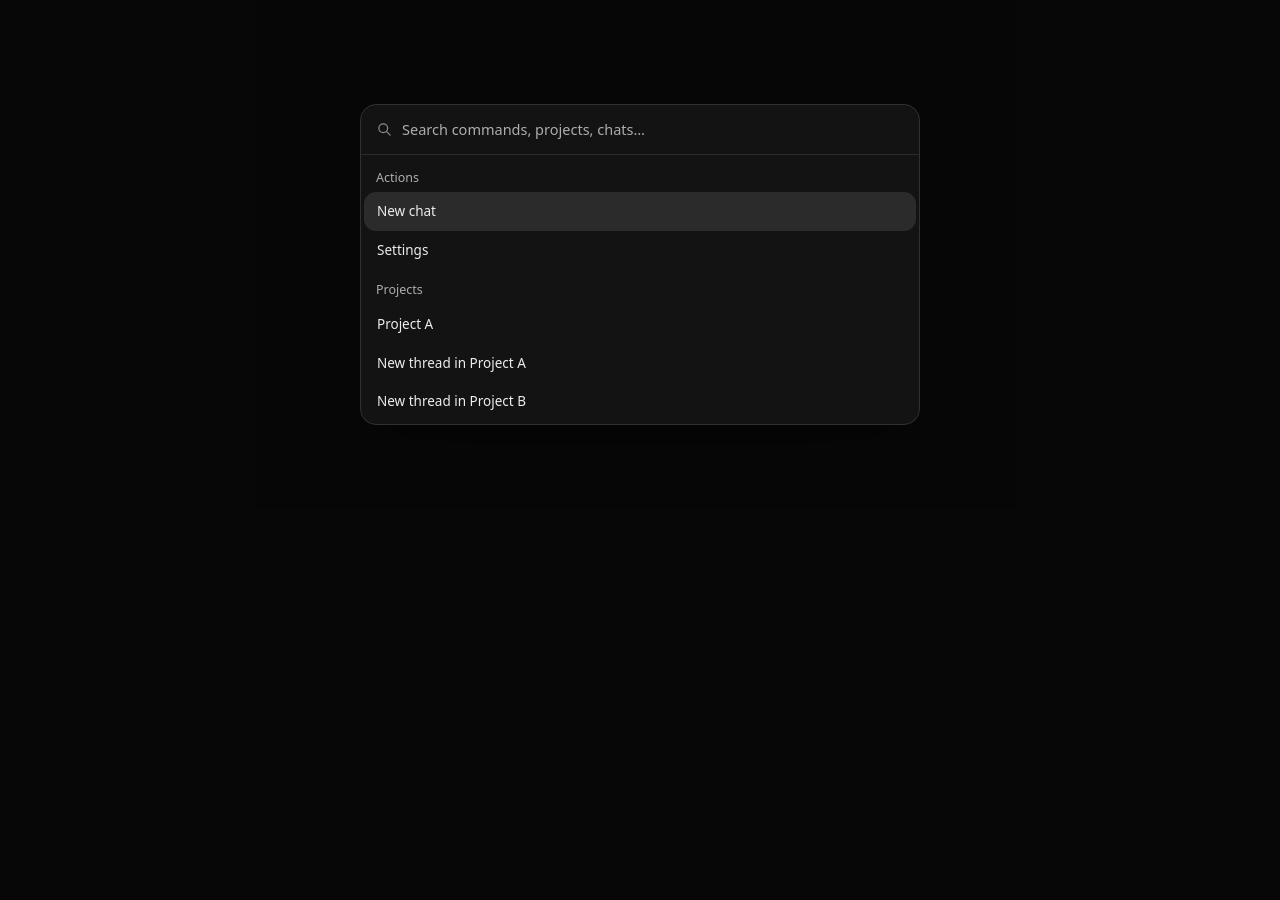
Test: CommandPalette › filters commands and runs the selection on Enter
Later steps or results of the test are not shown.
Type "sett" into the field labelled "Search commands". click: (652, 130)
box: top-left (402, 118), bottom-right (903, 141)
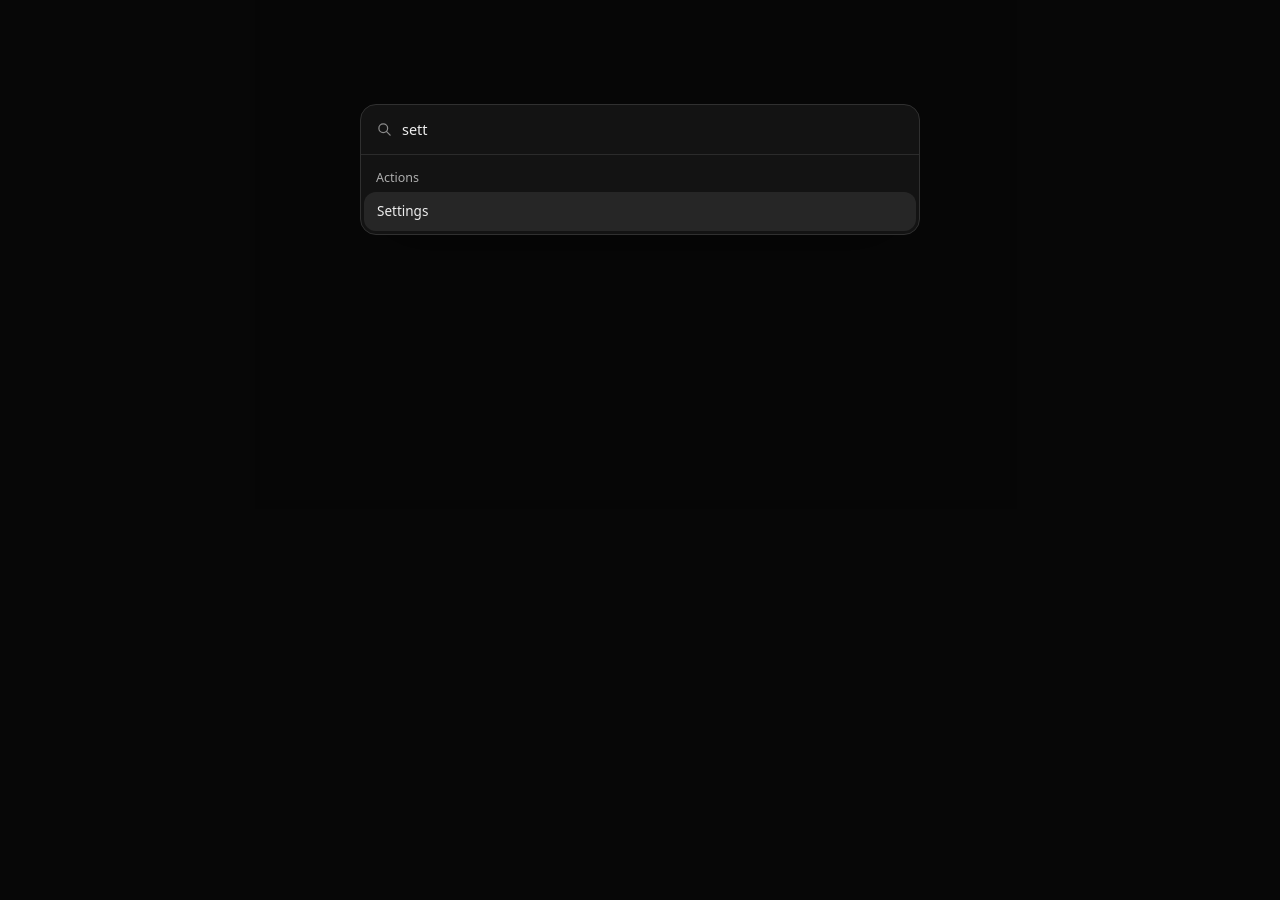
Now the option "New chat" is gone
